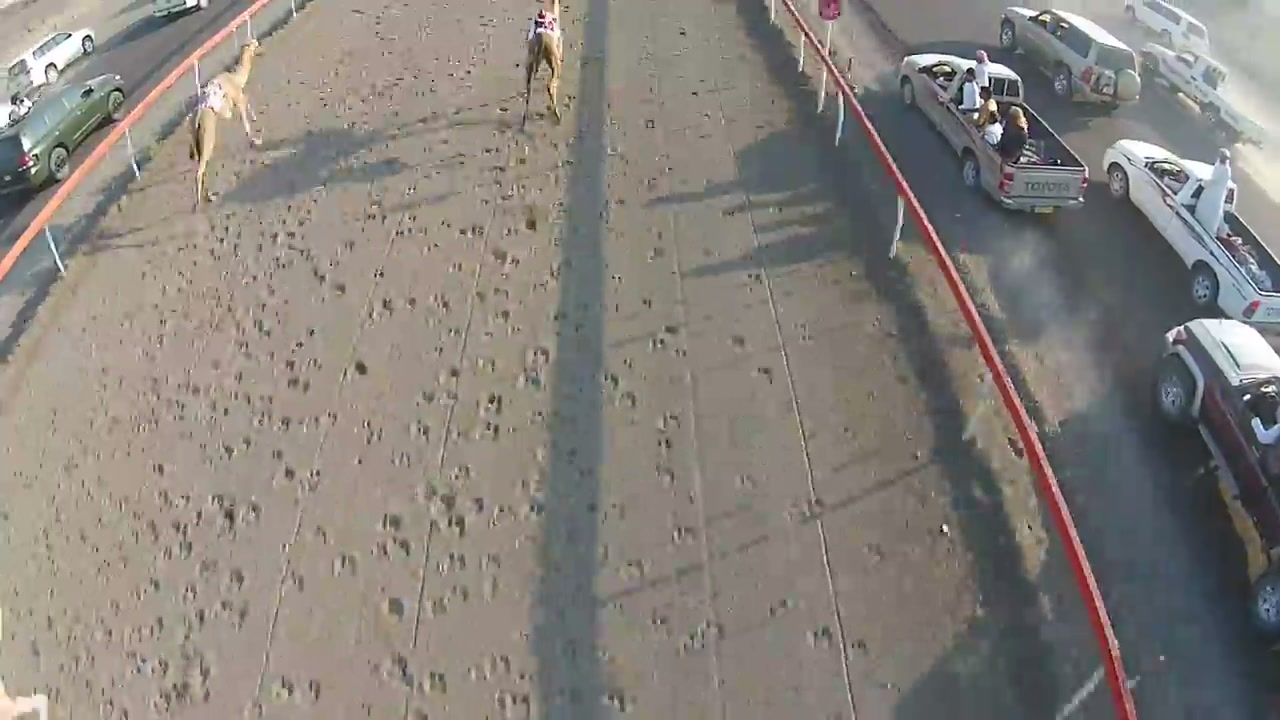animal_footprint: (388, 206, 559, 698), (208, 191, 364, 660)
